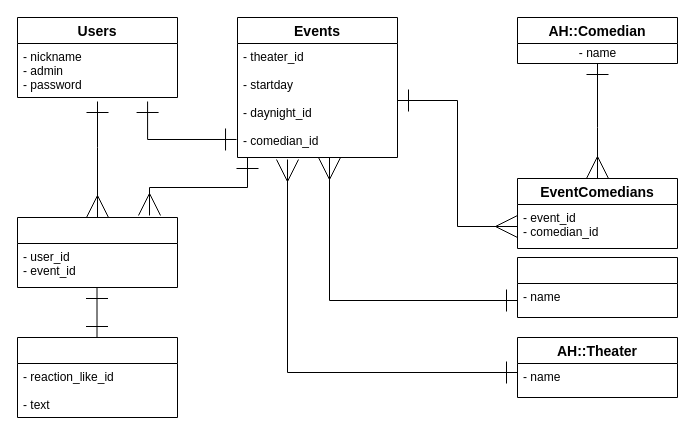
Some shapes in this 695 by 438 pixel diagram are drawn without their labels. Each missing label, with the box of its shape:
AH::Daynight: (516, 256, 678, 318)
Memos: (16, 336, 178, 418)
Reaction_likes: (16, 216, 178, 288)
